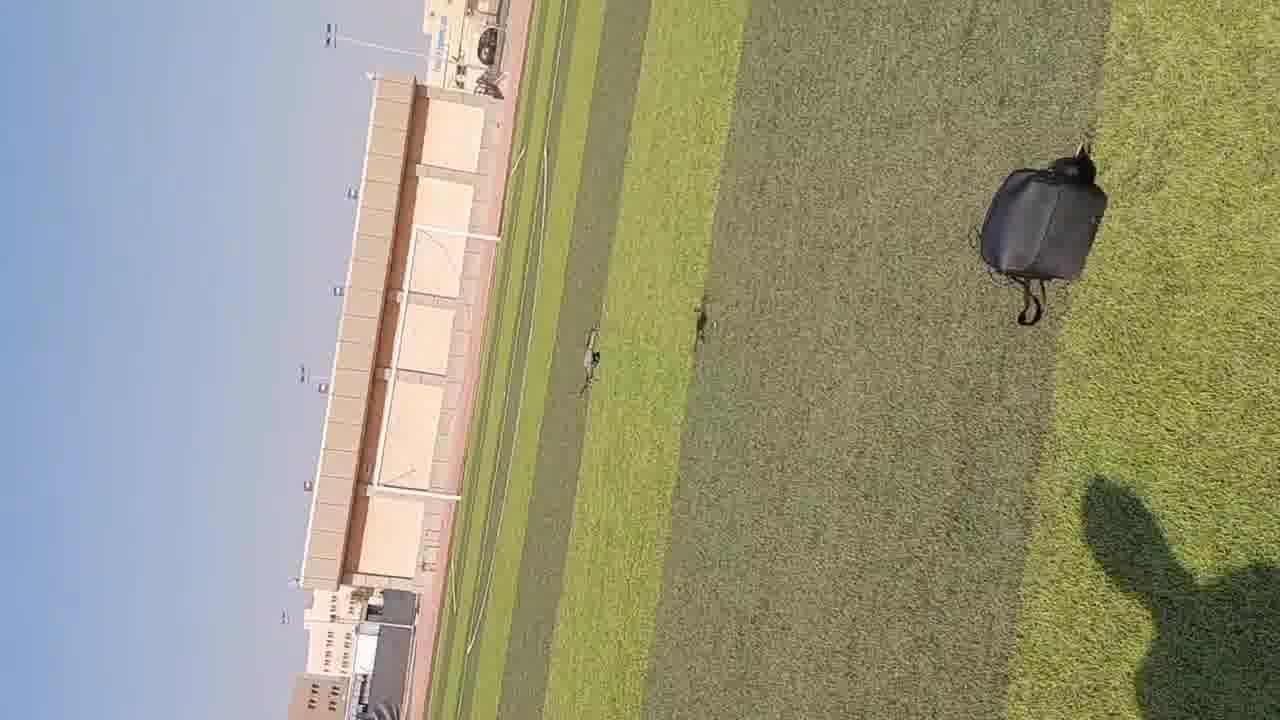drone: (500, 309, 708, 361)
